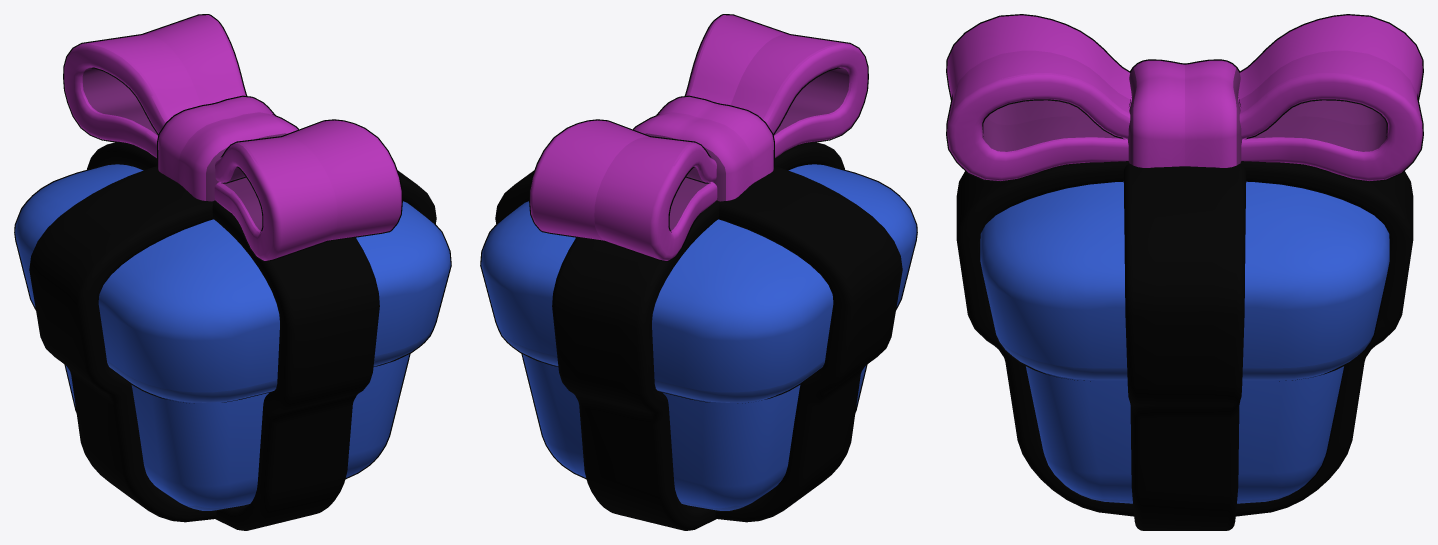
File: GiftboxModel.fbx
3 views of the same model, side by side, from view 1: azimuth 30°, elevation 25°; view 2: azimuth 150°, elevation 25°; view 3: azimuth 270°, elevation 25° (orthographic). The views are drawn at different scales.
Visible parts, largest first — view 1: Plane.002, Cube.004, Plane.001, Cube.007; view 2: Plane.002, Cube.004, Plane.001, Cube.007; view 3: Cube.004, Plane.002, Plane.001, Cube.007.
Boxes of the visible parts, x1,y1,x2,y2 form: Plane.002: (14,14,451,530); Cube.004: (15,164,450,510); Plane.001: (64,15,401,260); Cube.007: (158,96,297,201); Plane.002: (480,14,917,530); Cube.004: (481,164,916,510); Plane.001: (530,15,867,260); Cube.007: (634,96,773,201); Cube.004: (980,181,1389,503); Plane.002: (946,14,1423,530); Plane.001: (947,15,1422,180); Cube.007: (1127,60,1242,167).
Bounding box in the file's own units: 312 × 341 × 325.
